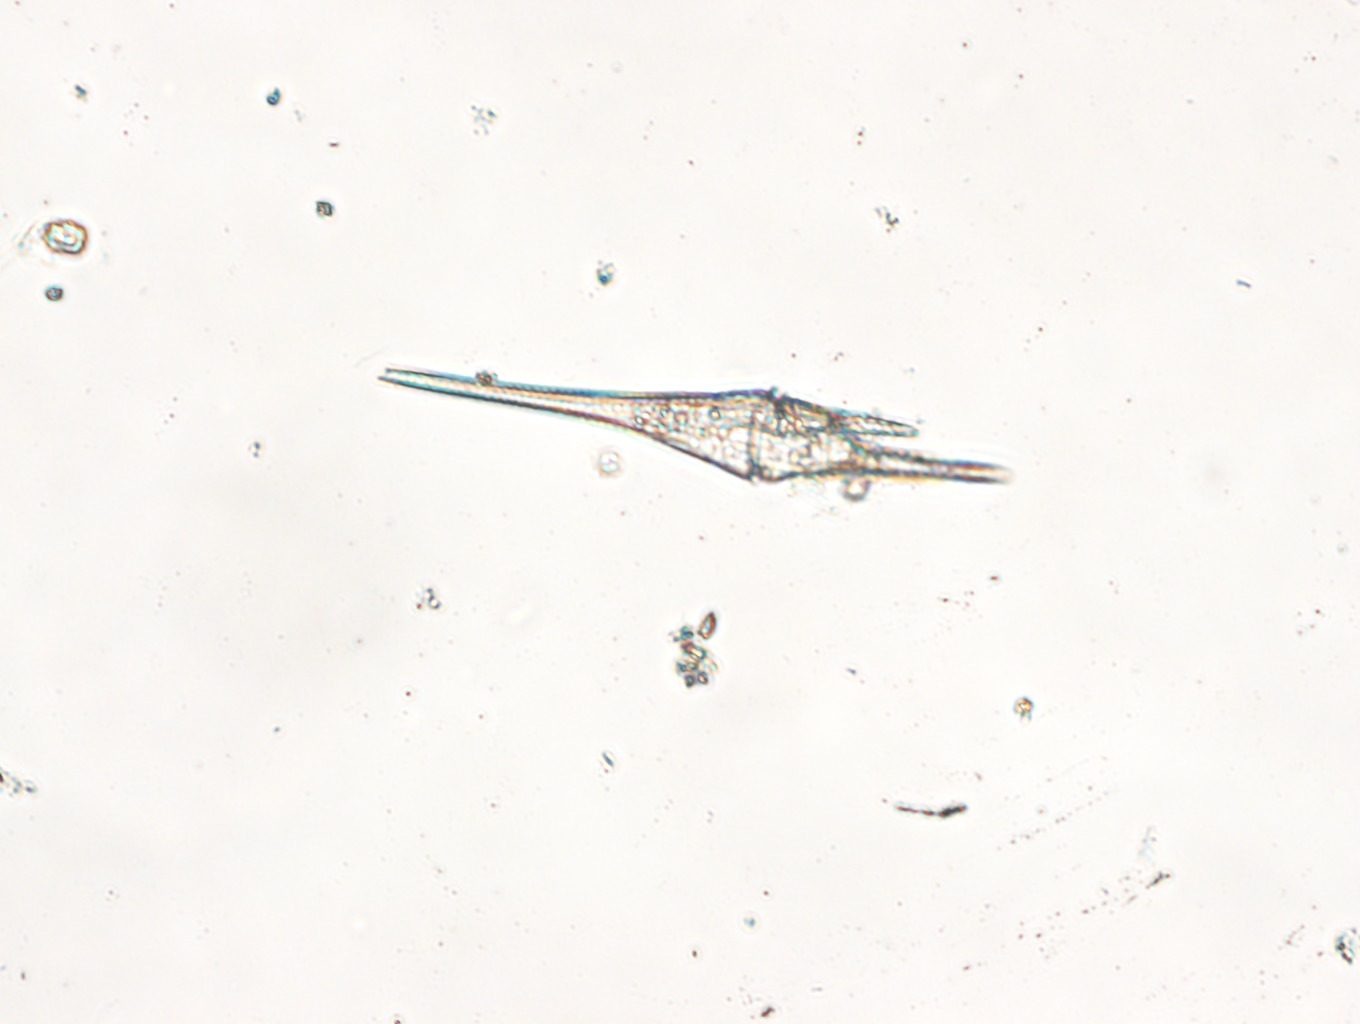ceratium furca: (375, 358, 1019, 495)
